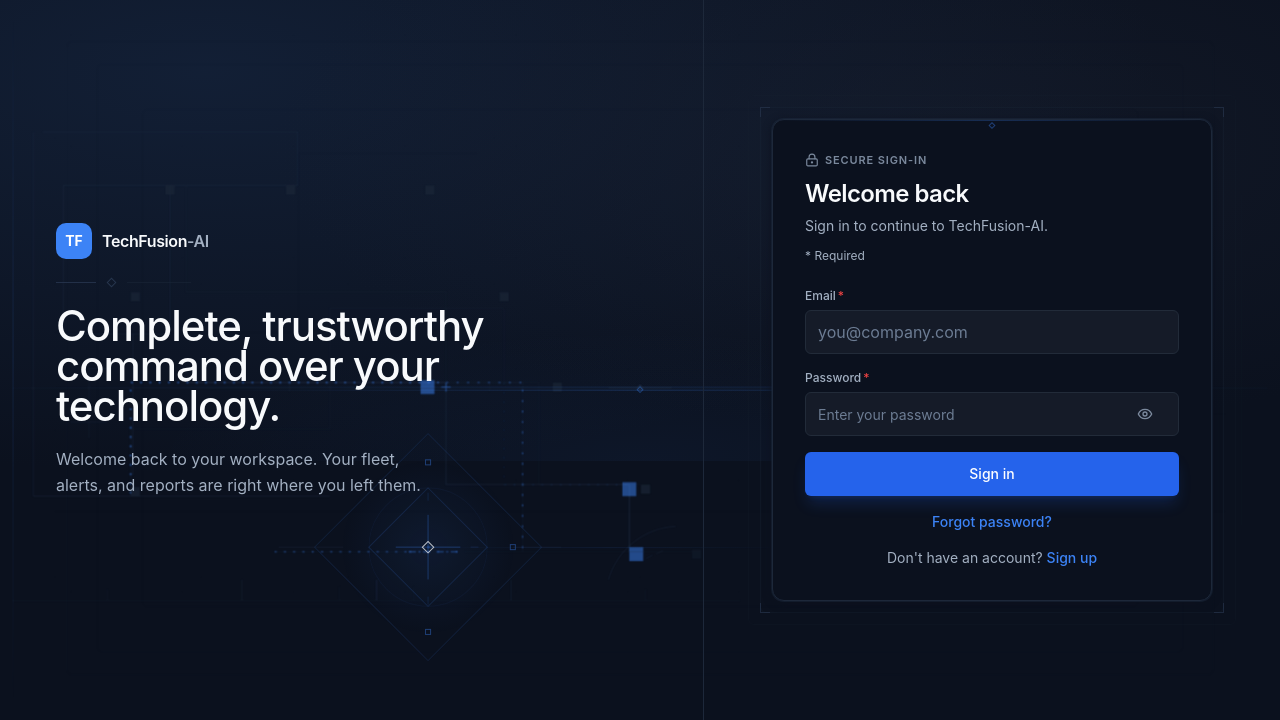
LoginExperience — credential flow › toggles password visibility with an accessible show/hide button
Step 1. Type "secret" into the password field labelled "Password*" → (992, 414), box [805,392,1179,436]
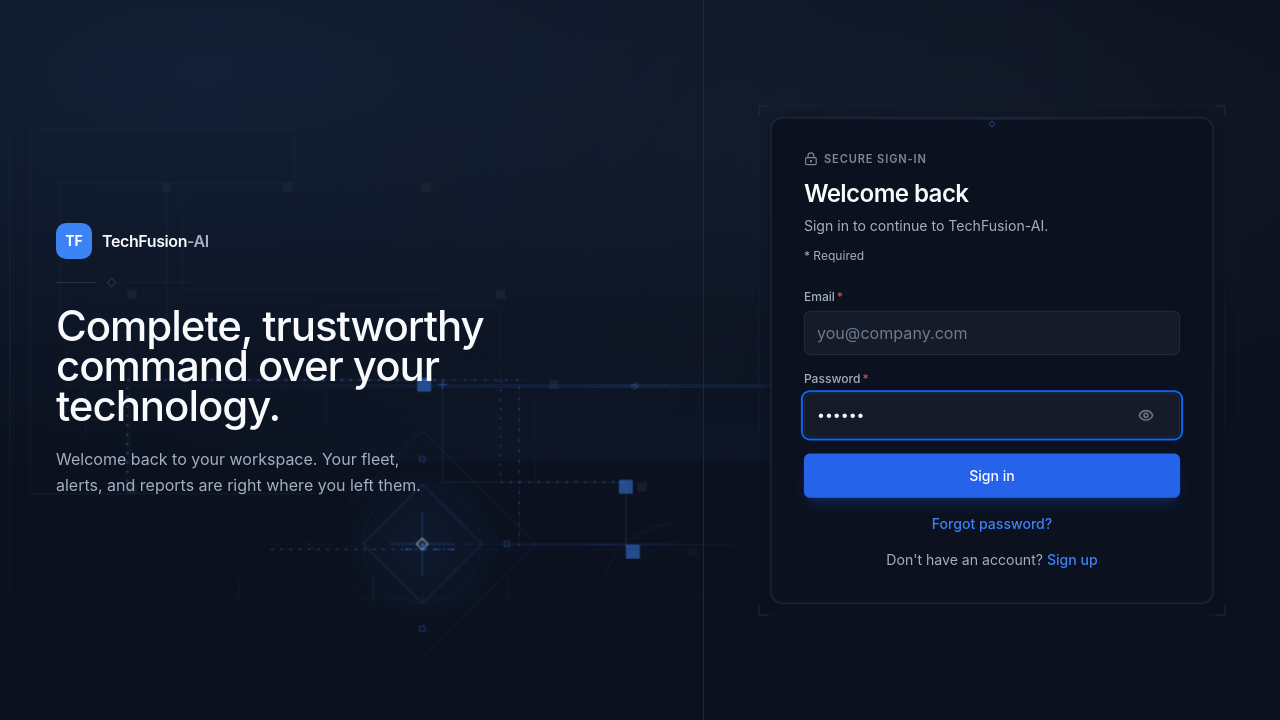
Step 2. Click the button named "show password" → (1146, 415), box [1124,392,1168,437]
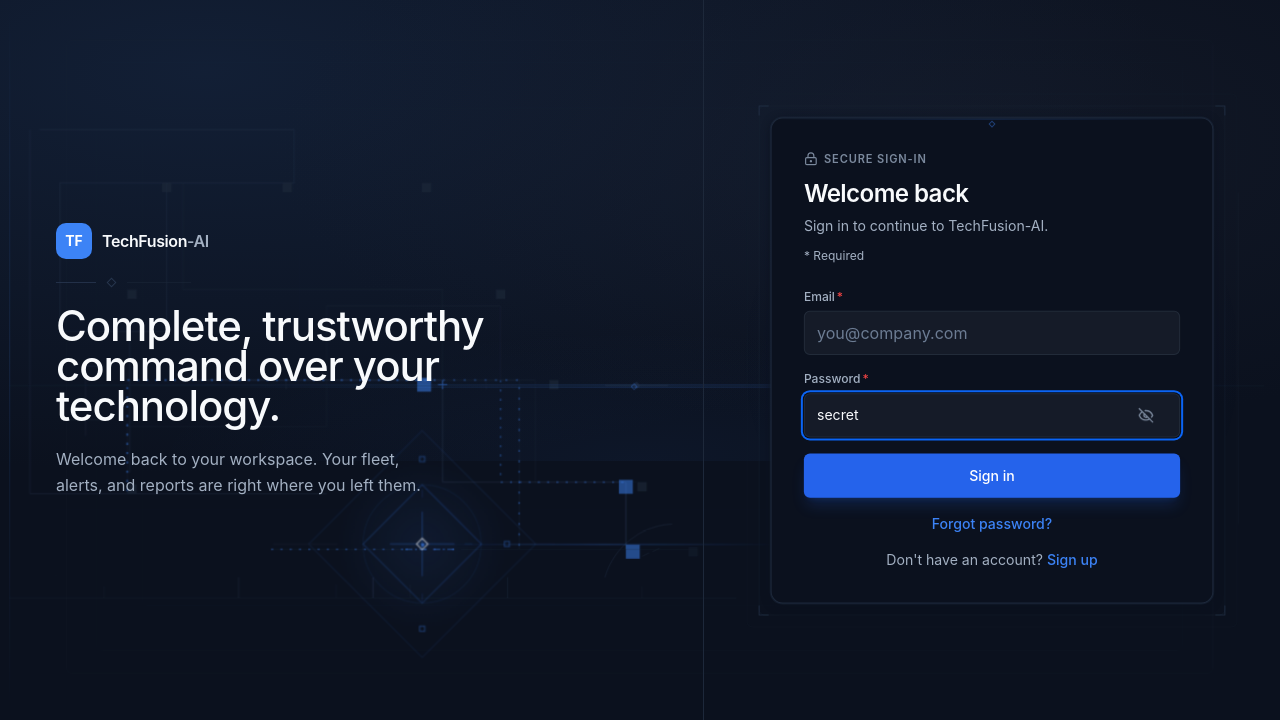
Expected: the field labelled "Password*" shows its text, [804,392,1180,437]
Step 3. Click the button named "hide password" → (1146, 415), box [1124,392,1168,437]
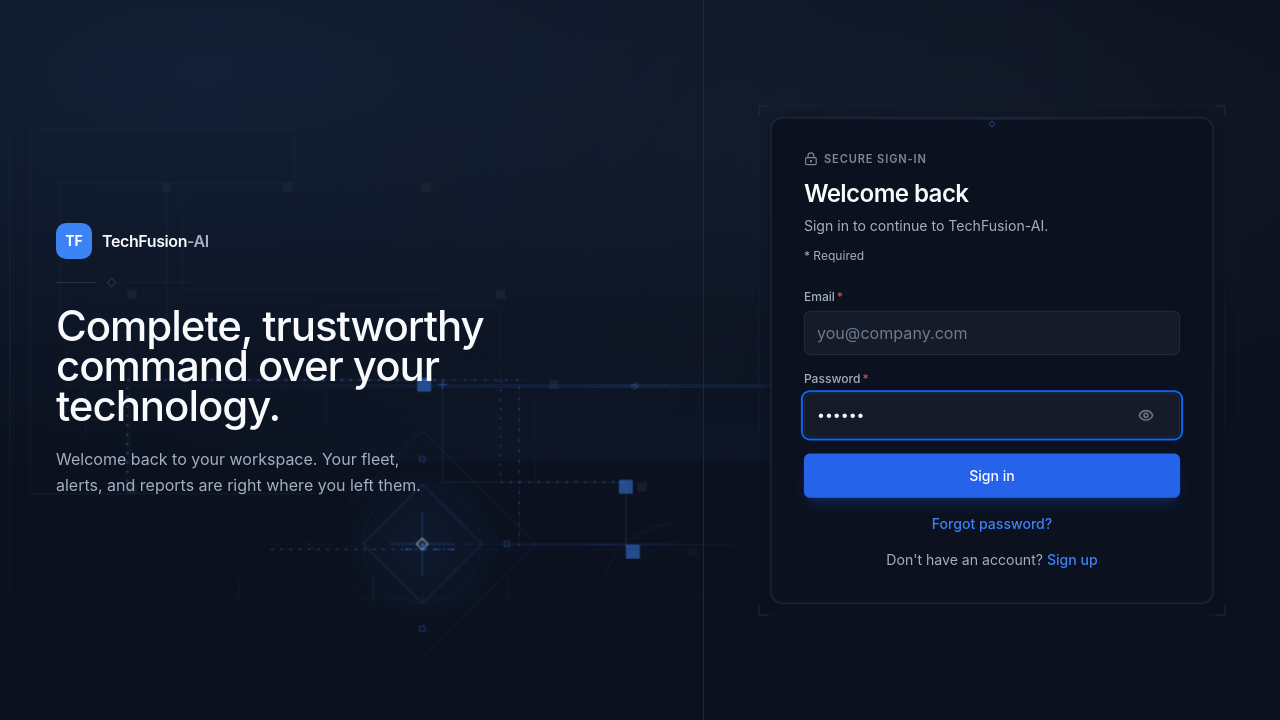
Expected: the password field labelled "Password*" hides its text, [804,392,1180,437]
